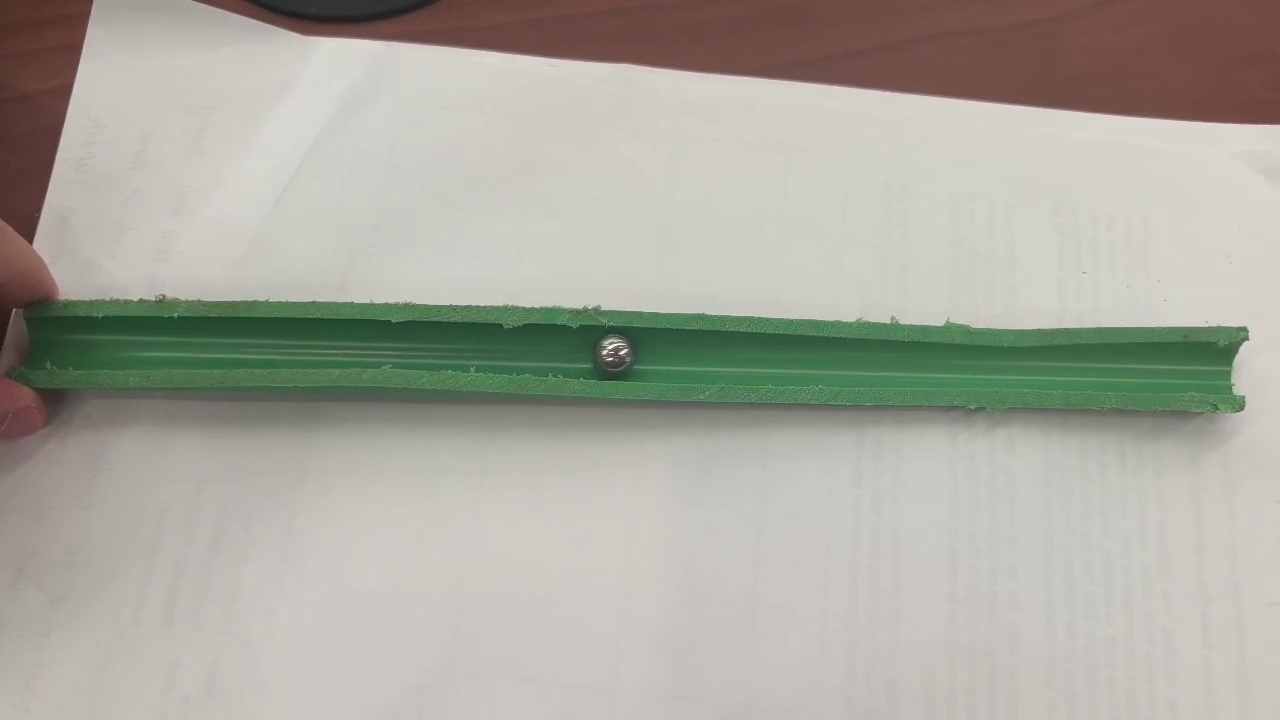ball: (597, 336, 633, 373)
